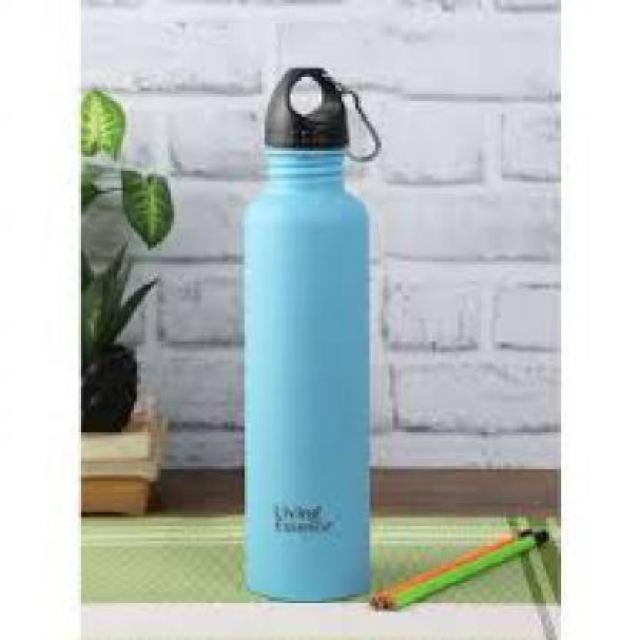Drinking: (213, 57, 416, 609)
